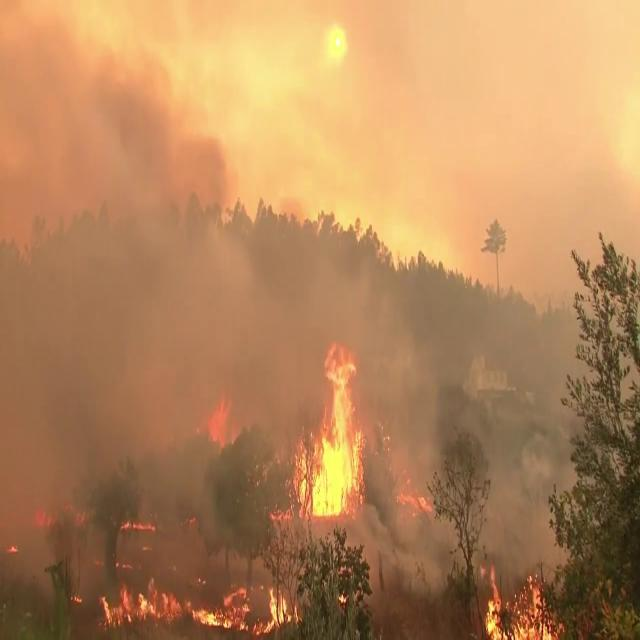Fire: (294, 332, 369, 525), (94, 566, 300, 635), (479, 562, 556, 640), (202, 383, 242, 457)
Smoke: (0, 1, 280, 551), (356, 282, 586, 578)
